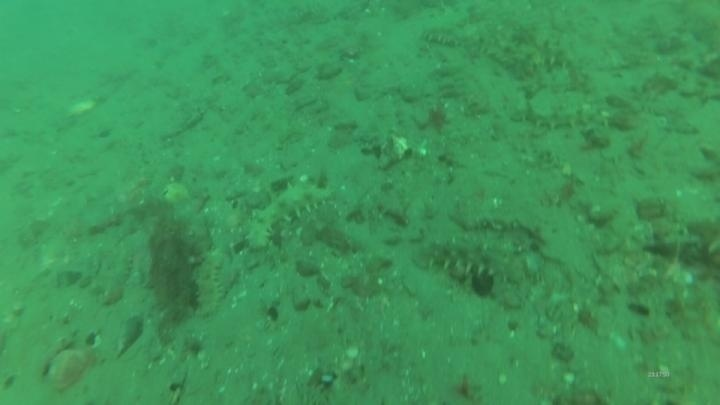holothurian: (242, 177, 335, 253), (414, 234, 526, 287), (511, 92, 608, 135), (477, 29, 546, 81), (510, 21, 582, 68), (190, 246, 229, 319), (419, 23, 482, 51)
